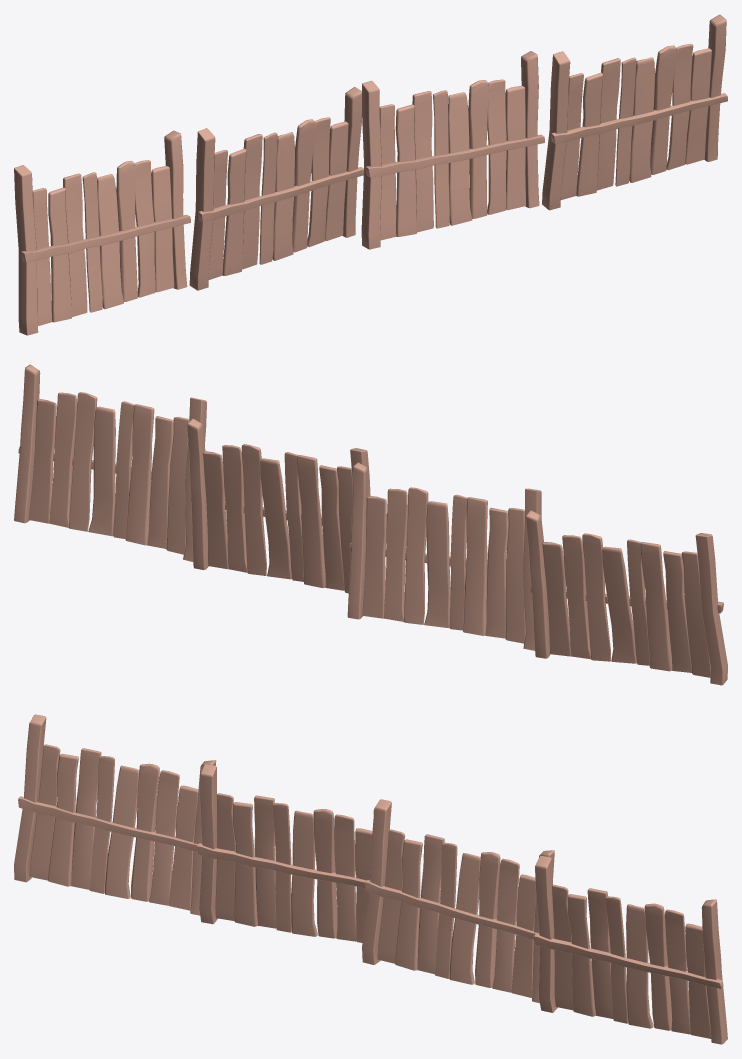
The model's file is prop_fence_02_quad.glb.
The picture shows the model from 3 angles, top to bottom: view 1: azimuth 30°, elevation 25°; view 2: azimuth 150°, elevation 25°; view 3: azimuth 330°, elevation 25°; orthographic projection.
Parts seen in each view (by area): view 1: prop_fences_03; view 2: prop_fences_03; view 3: prop_fences_03.
Boxes of the visible parts, x1=… form: prop_fences_03: x1=14, y1=14, x2=727, y2=335; prop_fences_03: x1=14, y1=364, x2=727, y2=685; prop_fences_03: x1=14, y1=714, x2=727, y2=1044.
Bounding box in the file's own units: 11.02 × 2.38 × 0.9596.
